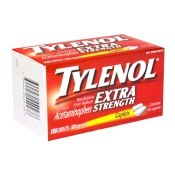grozi_72: (11, 33, 164, 141)
